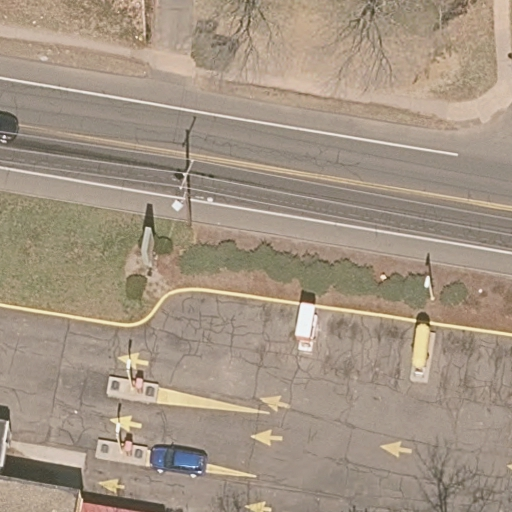DT: (178, 159, 213, 222)
